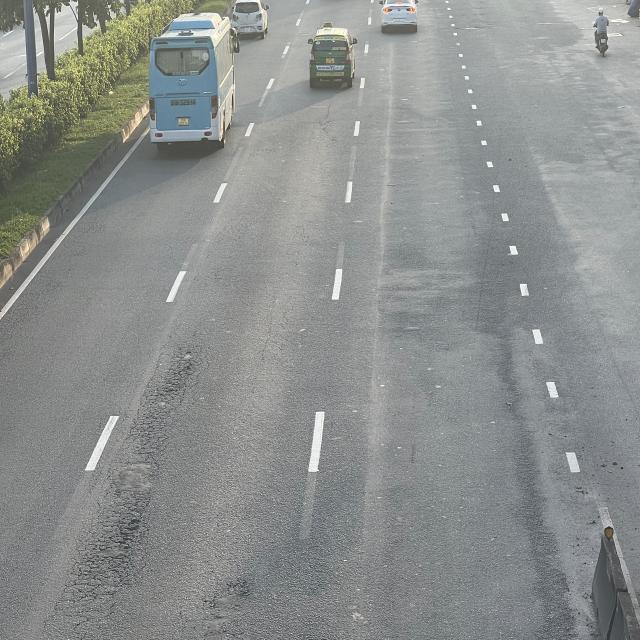car: (309, 29, 359, 88), (232, 0, 270, 37), (378, 0, 420, 31)
coach: (150, 12, 241, 149)
